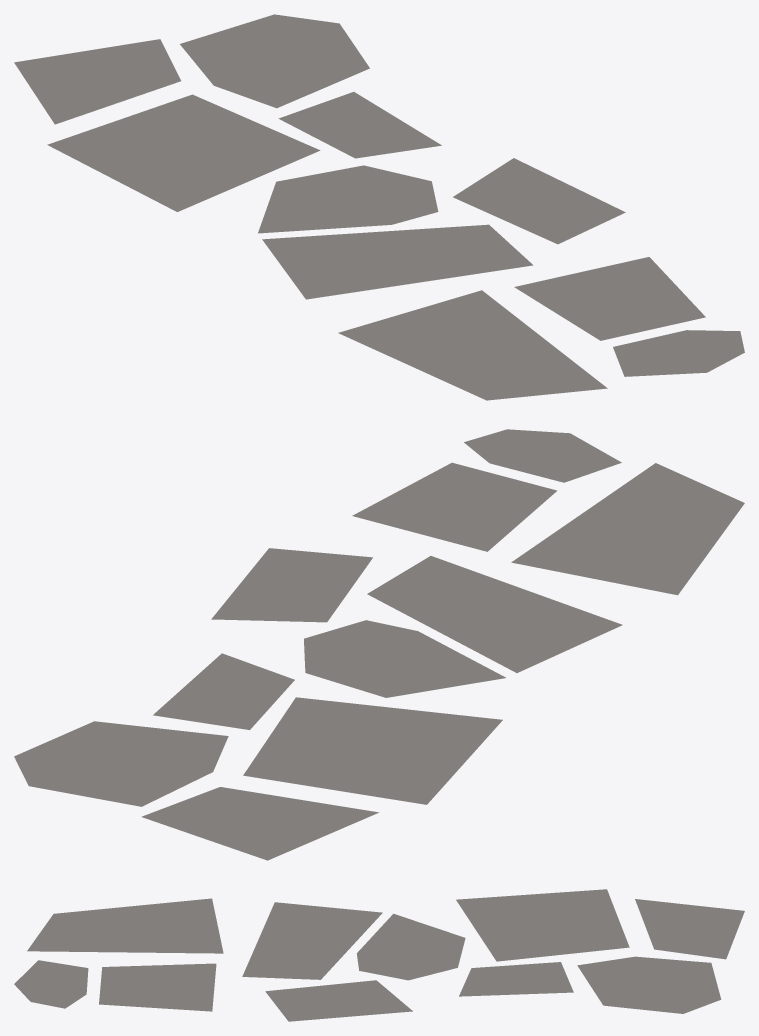
The model's file is SF_Env_Stonepath_01.fbx.
The picture shows the model from 3 angles, top to bottom: view 1: azimuth 30°, elevation 25°; view 2: azimuth 150°, elevation 25°; view 3: azimuth 270°, elevation 25°; orthographic projection. The views are drawn at different scales.
Parts seen in each view (by area): view 1: SF_Env_Stonepath_01; view 2: SF_Env_Stonepath_01; view 3: SF_Env_Stonepath_01.
Boxes of the visible parts, x1,y1,x2,y2 form: SF_Env_Stonepath_01: [14, 14, 744, 400]; SF_Env_Stonepath_01: [14, 429, 744, 860]; SF_Env_Stonepath_01: [14, 889, 744, 1021].
Bounding box in the file's own units: 3.37 × 0 × 7.87.
